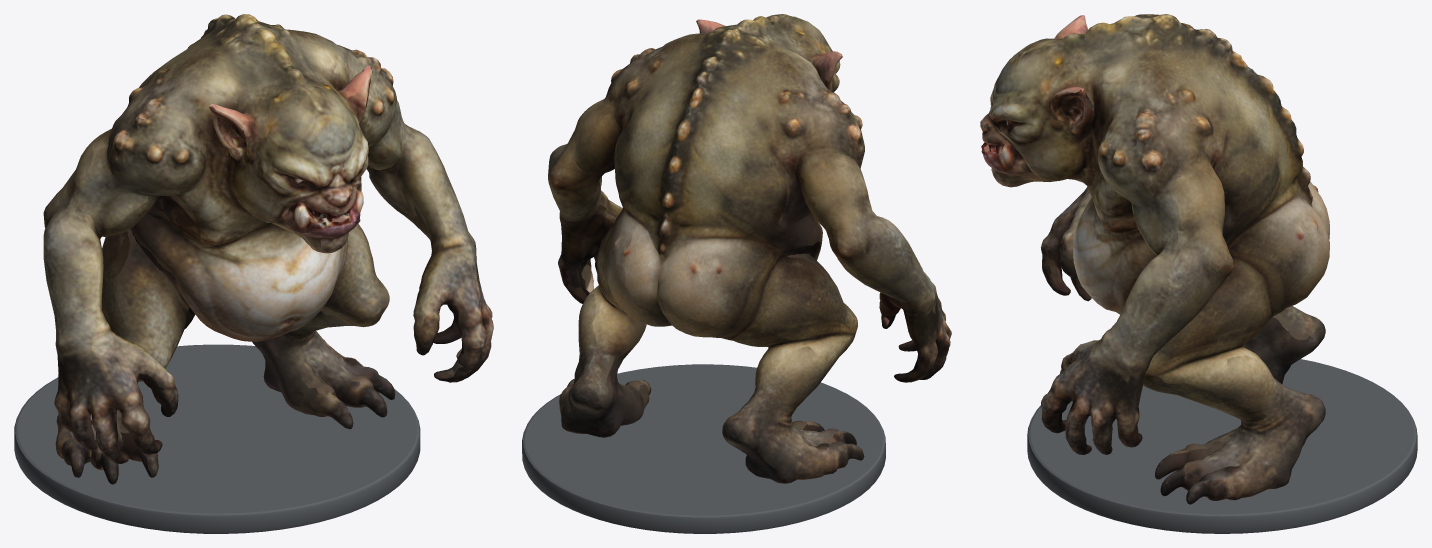
File: dretch.glb
The picture shows the model from 3 angles, left to right: view 1: azimuth 30°, elevation 25°; view 2: azimuth 150°, elevation 25°; view 3: azimuth 270°, elevation 25°; orthographic projection. The views are drawn at different scales.
Parts seen in each view (by area): view 1: dretch_body, dretch_round_base; view 2: dretch_body, dretch_round_base; view 3: dretch_body, dretch_round_base.
Part boxes in pixels (box(x1,y1,x2,y2)): dretch_body: box(43, 14, 493, 484); dretch_round_base: box(14, 344, 420, 533); dretch_body: box(548, 14, 951, 483); dretch_round_base: box(522, 364, 885, 533); dretch_body: box(980, 14, 1329, 504); dretch_round_base: box(1027, 359, 1417, 533).
Bounding box in the file's own units: 1.2 × 1.24 × 1.12.
Materials: 2 (1 with a texture image).
